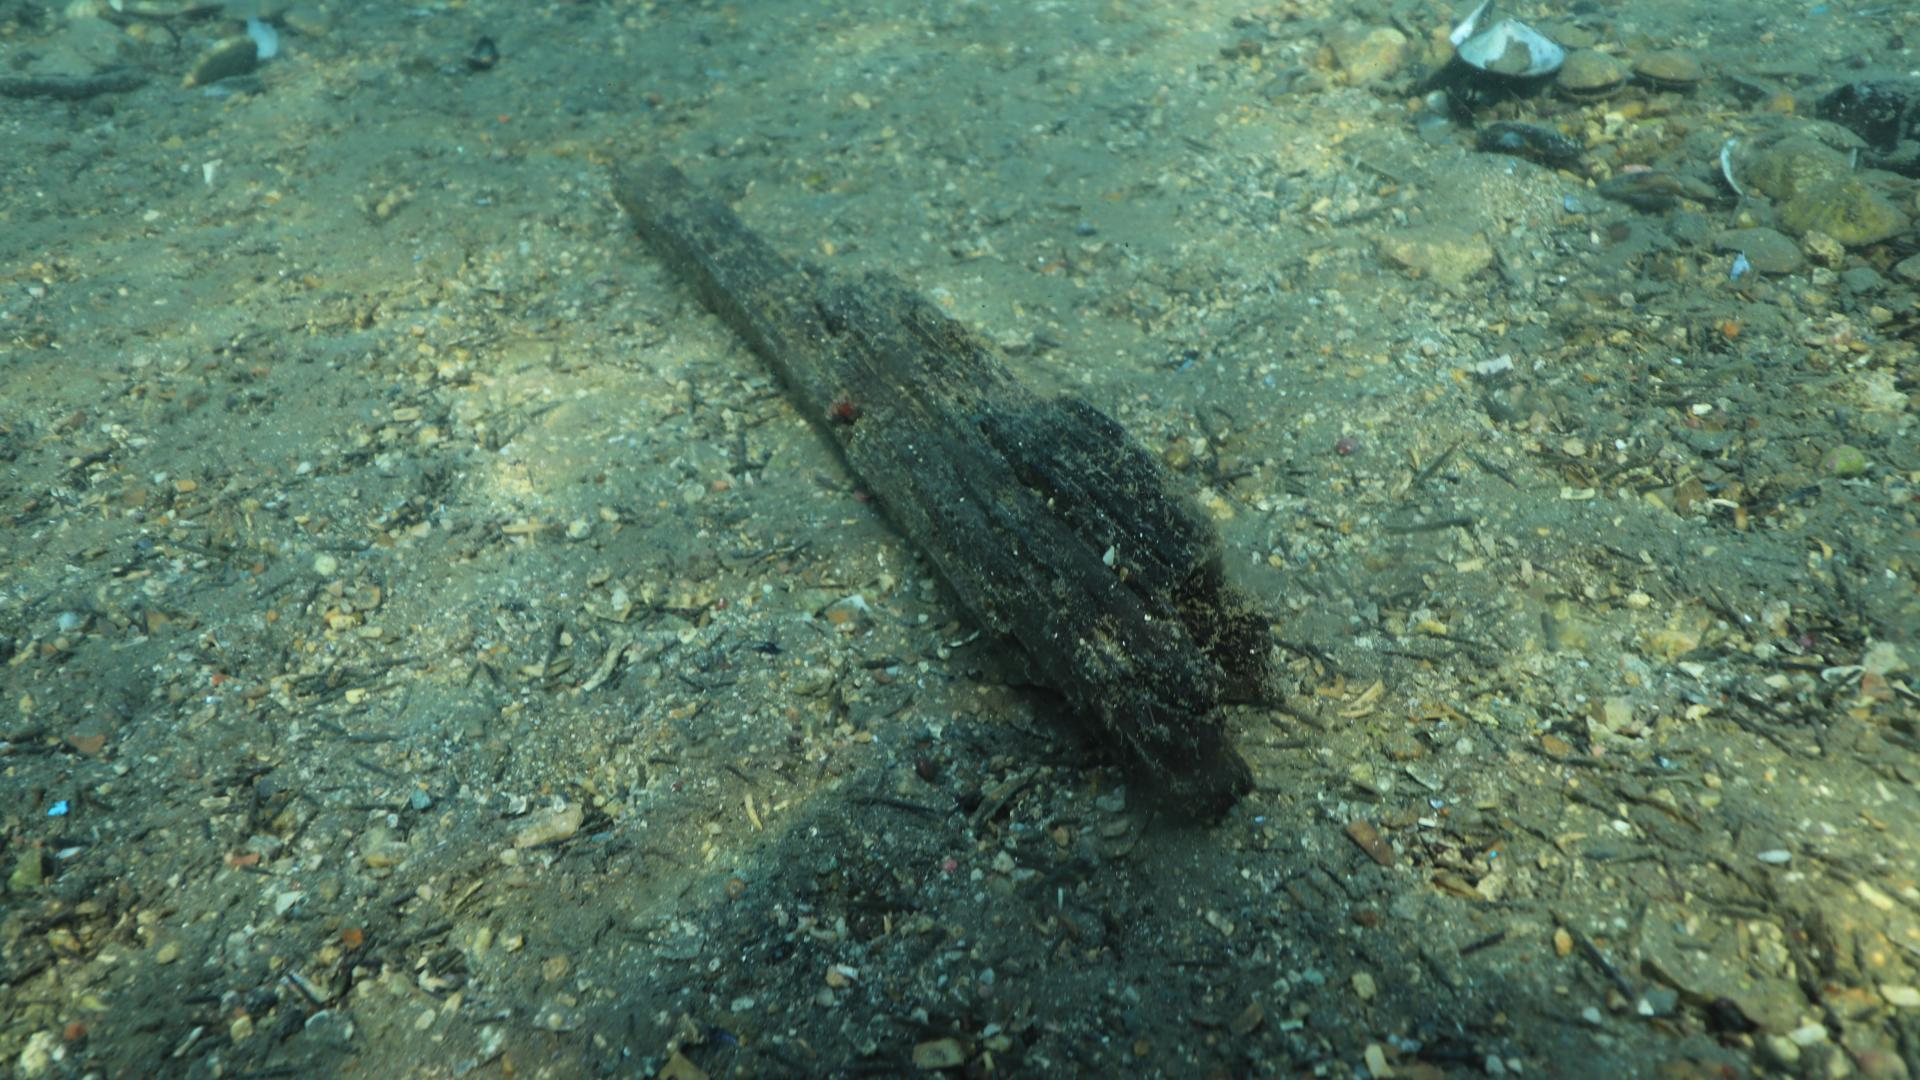wood: (600, 135, 1284, 828)
